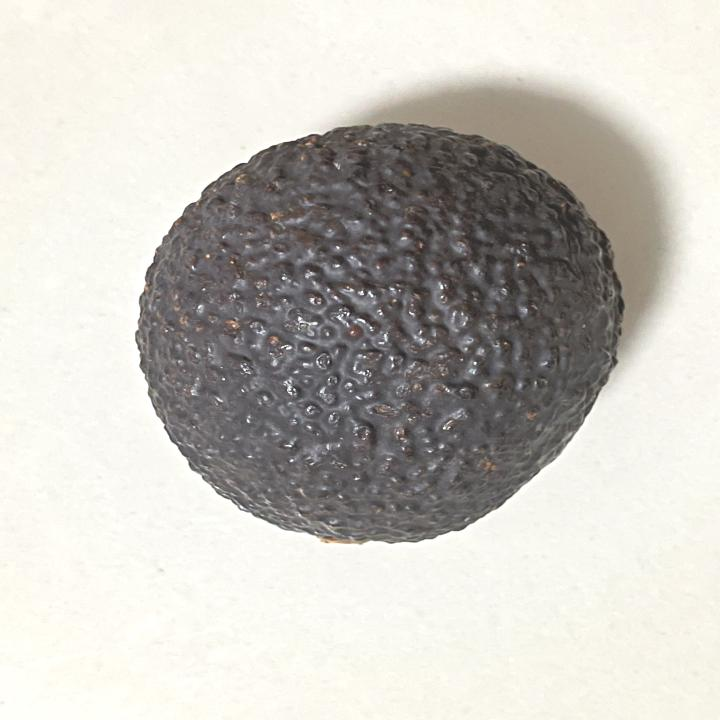Level3: (122, 116, 635, 554)
